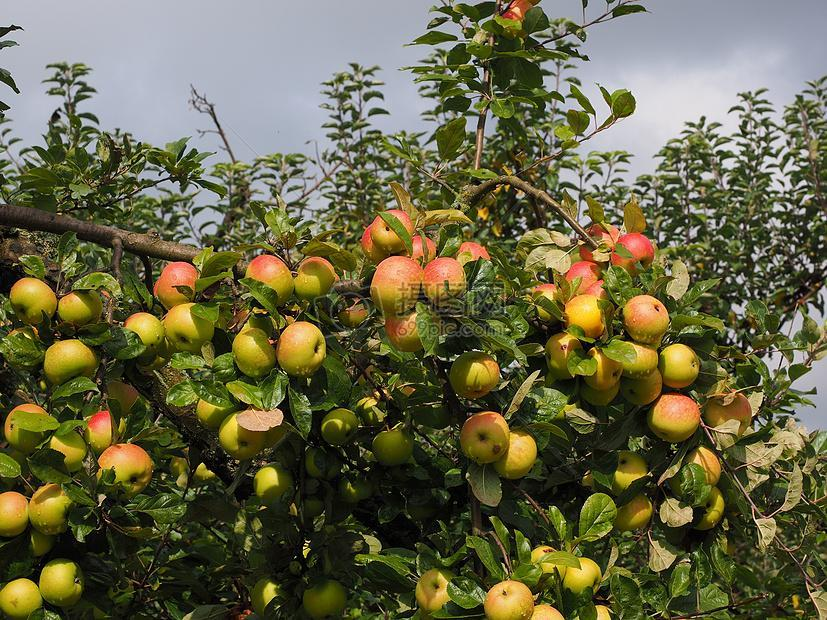apple: (96, 443, 153, 497), (369, 255, 420, 314), (458, 410, 509, 467), (275, 321, 326, 377), (42, 337, 99, 385), (646, 391, 698, 442), (447, 350, 501, 399), (362, 209, 412, 261), (244, 253, 293, 306), (232, 323, 276, 378), (218, 409, 266, 459), (26, 484, 72, 536), (38, 557, 84, 607), (701, 389, 752, 433), (623, 294, 668, 342), (482, 579, 533, 620), (421, 256, 465, 303), (154, 261, 198, 307), (496, 429, 537, 478), (413, 568, 454, 615), (293, 256, 336, 300), (302, 578, 347, 617), (2, 578, 43, 620), (660, 343, 699, 387), (612, 231, 654, 270), (369, 429, 412, 466), (56, 289, 98, 326), (566, 296, 606, 333), (563, 260, 603, 297), (564, 558, 601, 594), (1, 491, 28, 537), (86, 409, 112, 452)
